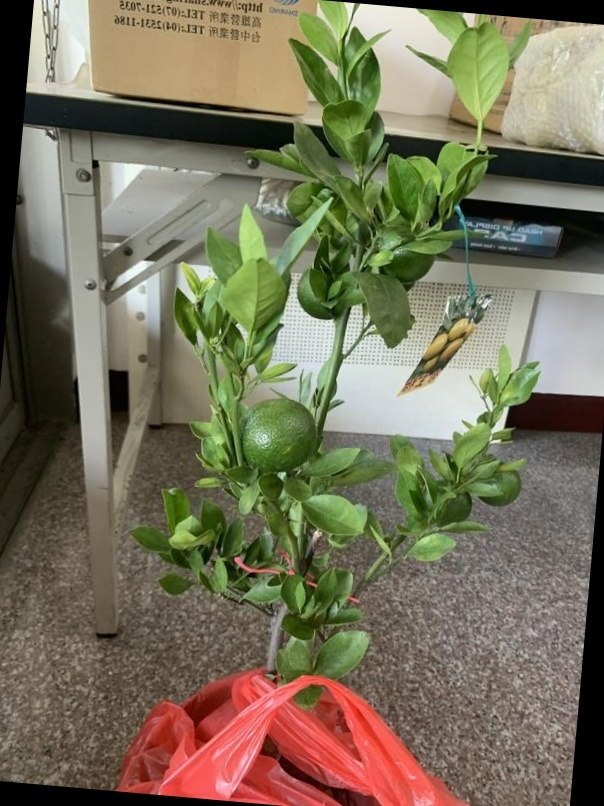Tangerine: (239, 396, 322, 475)
